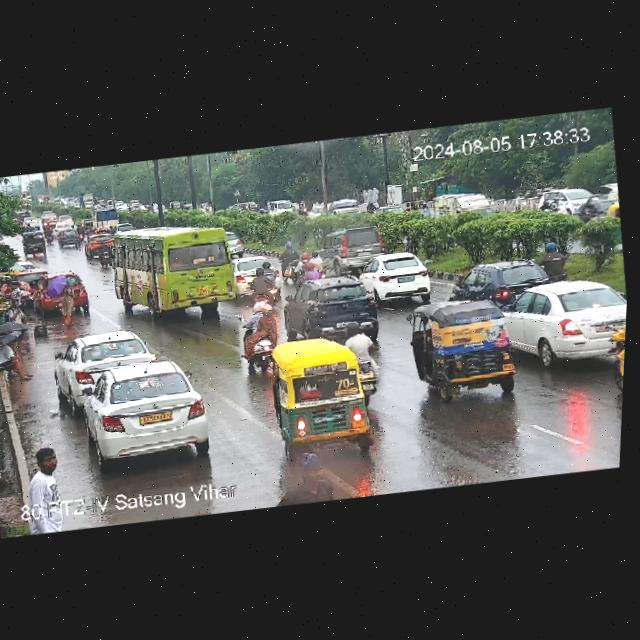bus: (106, 212, 252, 321)
car: (74, 354, 215, 466), (261, 335, 366, 460), (497, 274, 628, 371), (403, 296, 516, 402), (274, 265, 381, 341), (50, 327, 155, 395), (449, 254, 558, 307), (357, 248, 437, 306), (533, 181, 620, 224), (322, 222, 388, 269), (31, 268, 93, 318), (227, 252, 259, 297), (19, 267, 45, 299), (20, 231, 48, 257), (54, 226, 79, 251), (226, 229, 245, 257), (39, 209, 60, 230), (81, 233, 99, 257), (113, 221, 135, 231)
motorcycle: (234, 298, 281, 370), (348, 325, 389, 399), (603, 314, 626, 387), (247, 261, 278, 307), (298, 248, 333, 282), (279, 238, 301, 282), (580, 192, 601, 221), (92, 241, 113, 266), (540, 196, 563, 215), (75, 223, 85, 242), (107, 224, 118, 234), (23, 222, 34, 231), (86, 225, 96, 233)
person: (23, 436, 69, 487), (0, 335, 37, 384), (8, 300, 30, 347), (57, 281, 78, 326), (0, 278, 22, 303)
truck: (431, 190, 492, 219), (89, 207, 120, 232), (269, 197, 294, 215)
